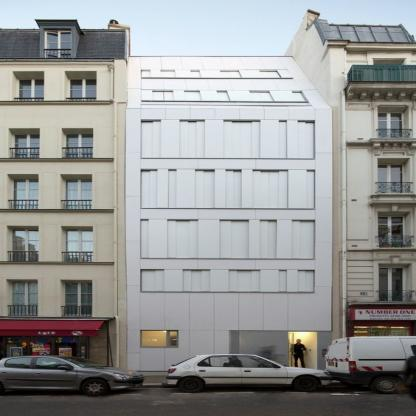Building Outline: (125, 56, 333, 376)
Door: (288, 331, 318, 371)
Facade: (125, 56, 333, 376)
Window: (224, 121, 260, 159), (253, 171, 288, 209), (219, 220, 249, 258), (168, 220, 198, 258), (179, 121, 205, 159), (292, 221, 314, 259), (196, 170, 215, 209), (141, 122, 160, 159), (229, 271, 260, 292), (141, 331, 178, 348), (261, 221, 277, 259), (298, 122, 314, 159), (226, 171, 241, 209), (142, 171, 157, 208), (183, 271, 210, 291), (142, 271, 164, 291), (298, 271, 313, 292), (279, 122, 287, 159), (231, 332, 239, 369), (141, 220, 148, 258), (307, 171, 314, 209), (169, 171, 176, 208), (250, 92, 274, 101), (153, 92, 173, 101), (279, 271, 287, 292), (184, 92, 202, 101), (220, 72, 241, 78), (260, 72, 281, 78), (217, 92, 230, 101), (293, 92, 305, 101), (161, 71, 176, 77), (190, 72, 201, 78), (142, 71, 150, 77)
